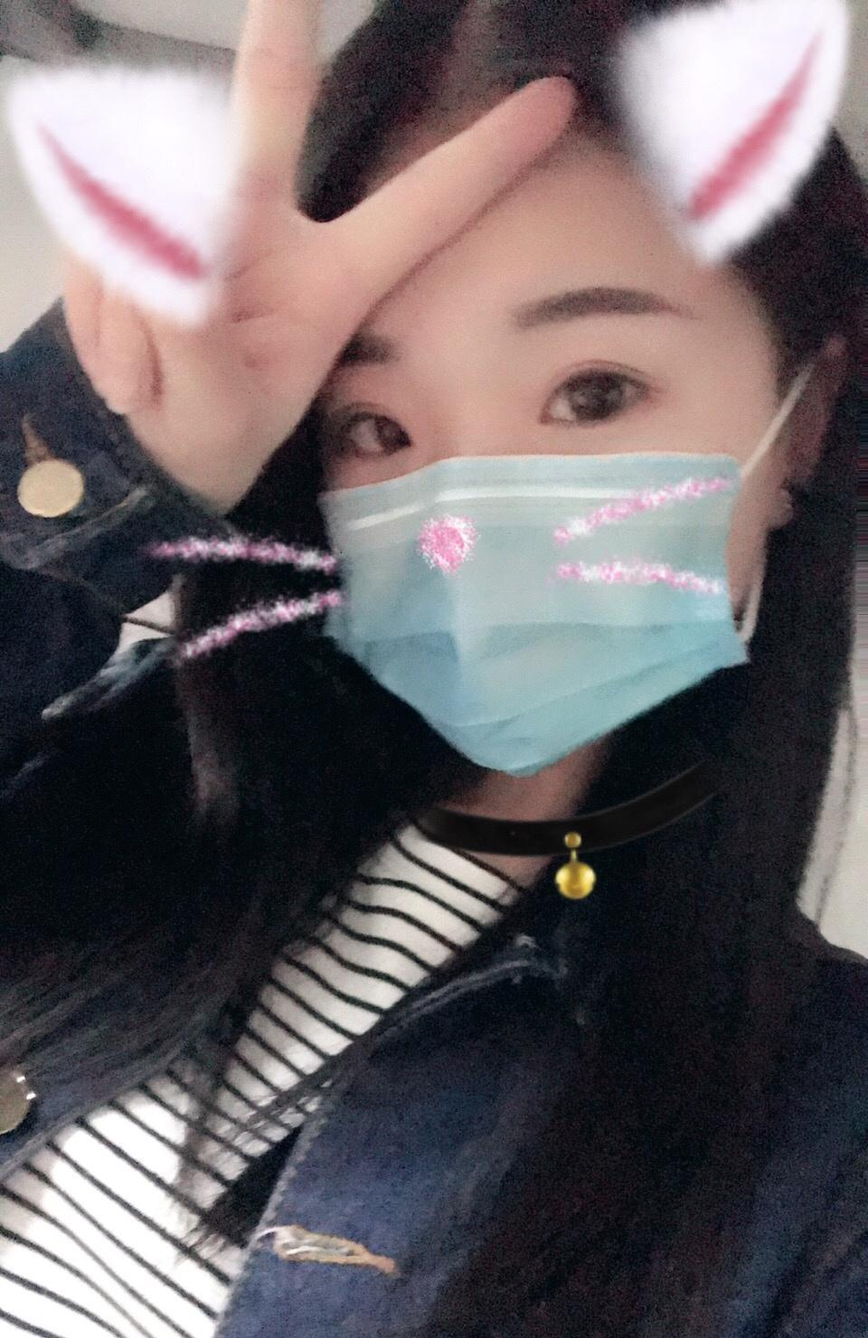OK: (281, 276, 770, 765)
